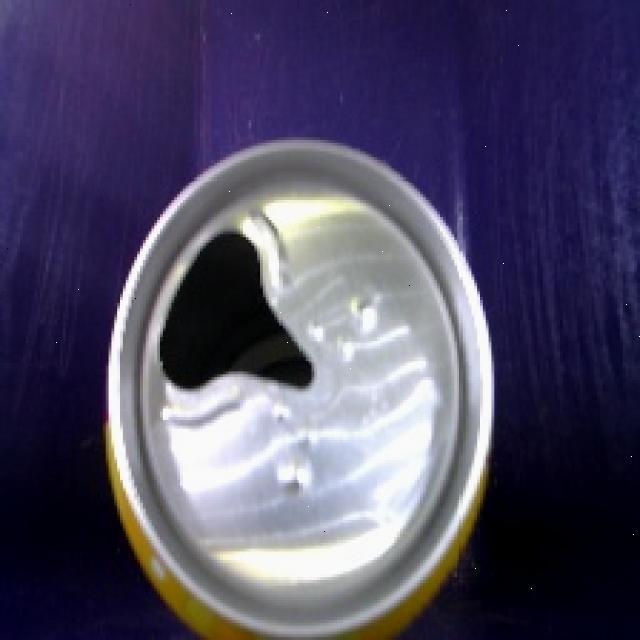metal: (80, 118, 523, 640)
